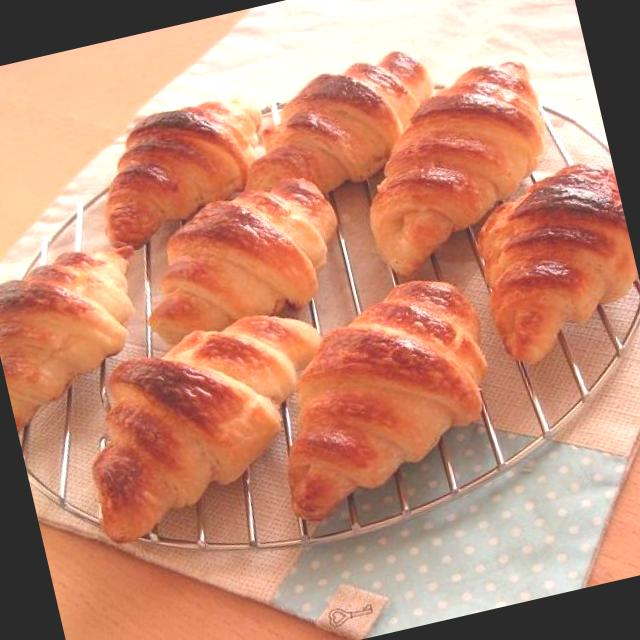Croissant: (248, 264, 511, 516)
